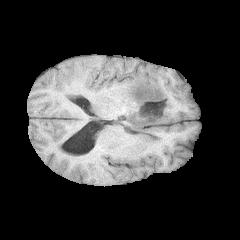glioma: (118, 73, 173, 131)
